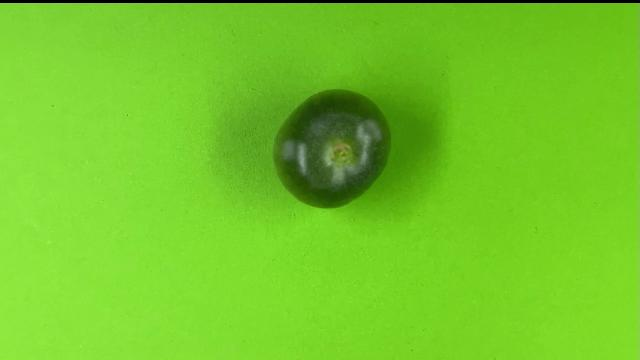Fruit Maturation: (272, 88, 392, 209)
